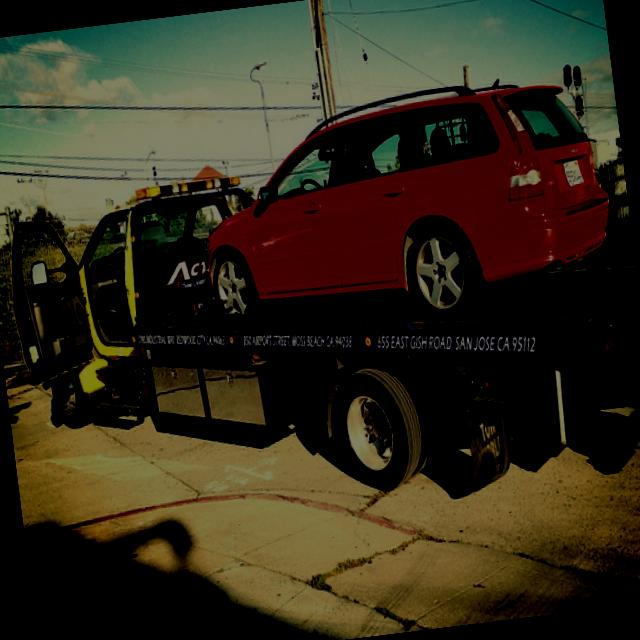Vehicle: (0, 121, 640, 552), (188, 70, 621, 350)
